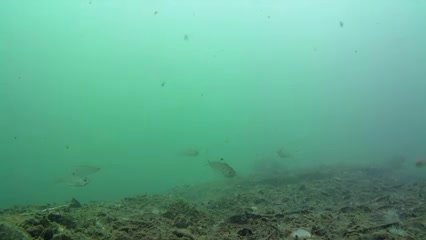azi: (208, 159, 239, 180)
smallfish: (52, 171, 94, 189)
